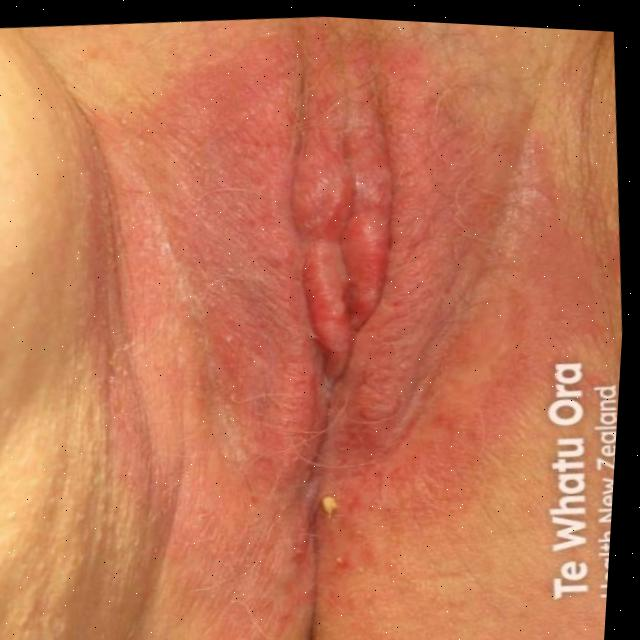Eczema: (143, 58, 572, 550)
